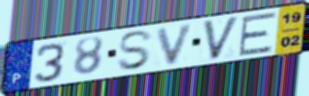3: (34, 42, 68, 84)
8: (71, 36, 106, 78)
E: (236, 10, 279, 58)
S: (116, 28, 155, 72)
V: (200, 14, 242, 62), (155, 21, 198, 67)
